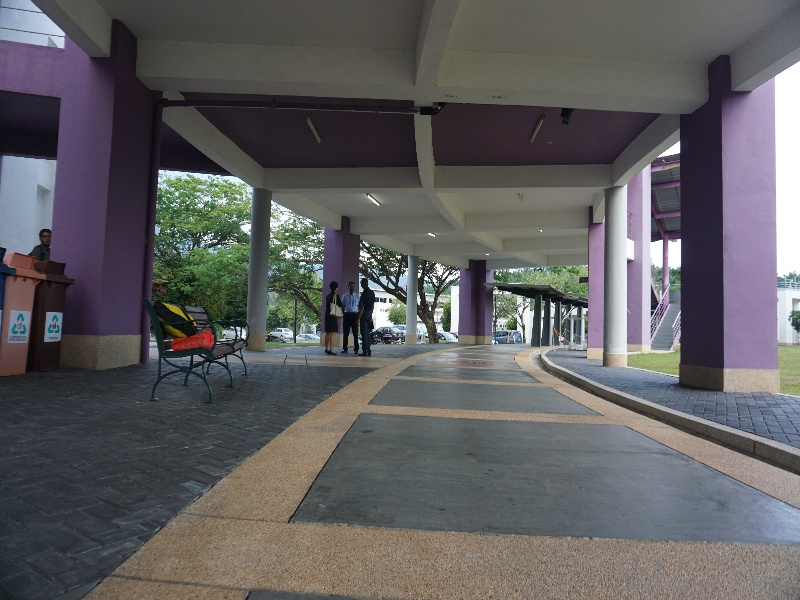Block D Pillar 2: (3, 4, 800, 495)
pillar: (683, 56, 785, 408)
